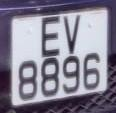6: (80, 50, 104, 93)
8: (16, 55, 41, 104), (38, 55, 64, 99)
9: (60, 54, 83, 97)
E: (38, 13, 63, 60)
V: (61, 14, 83, 57)
